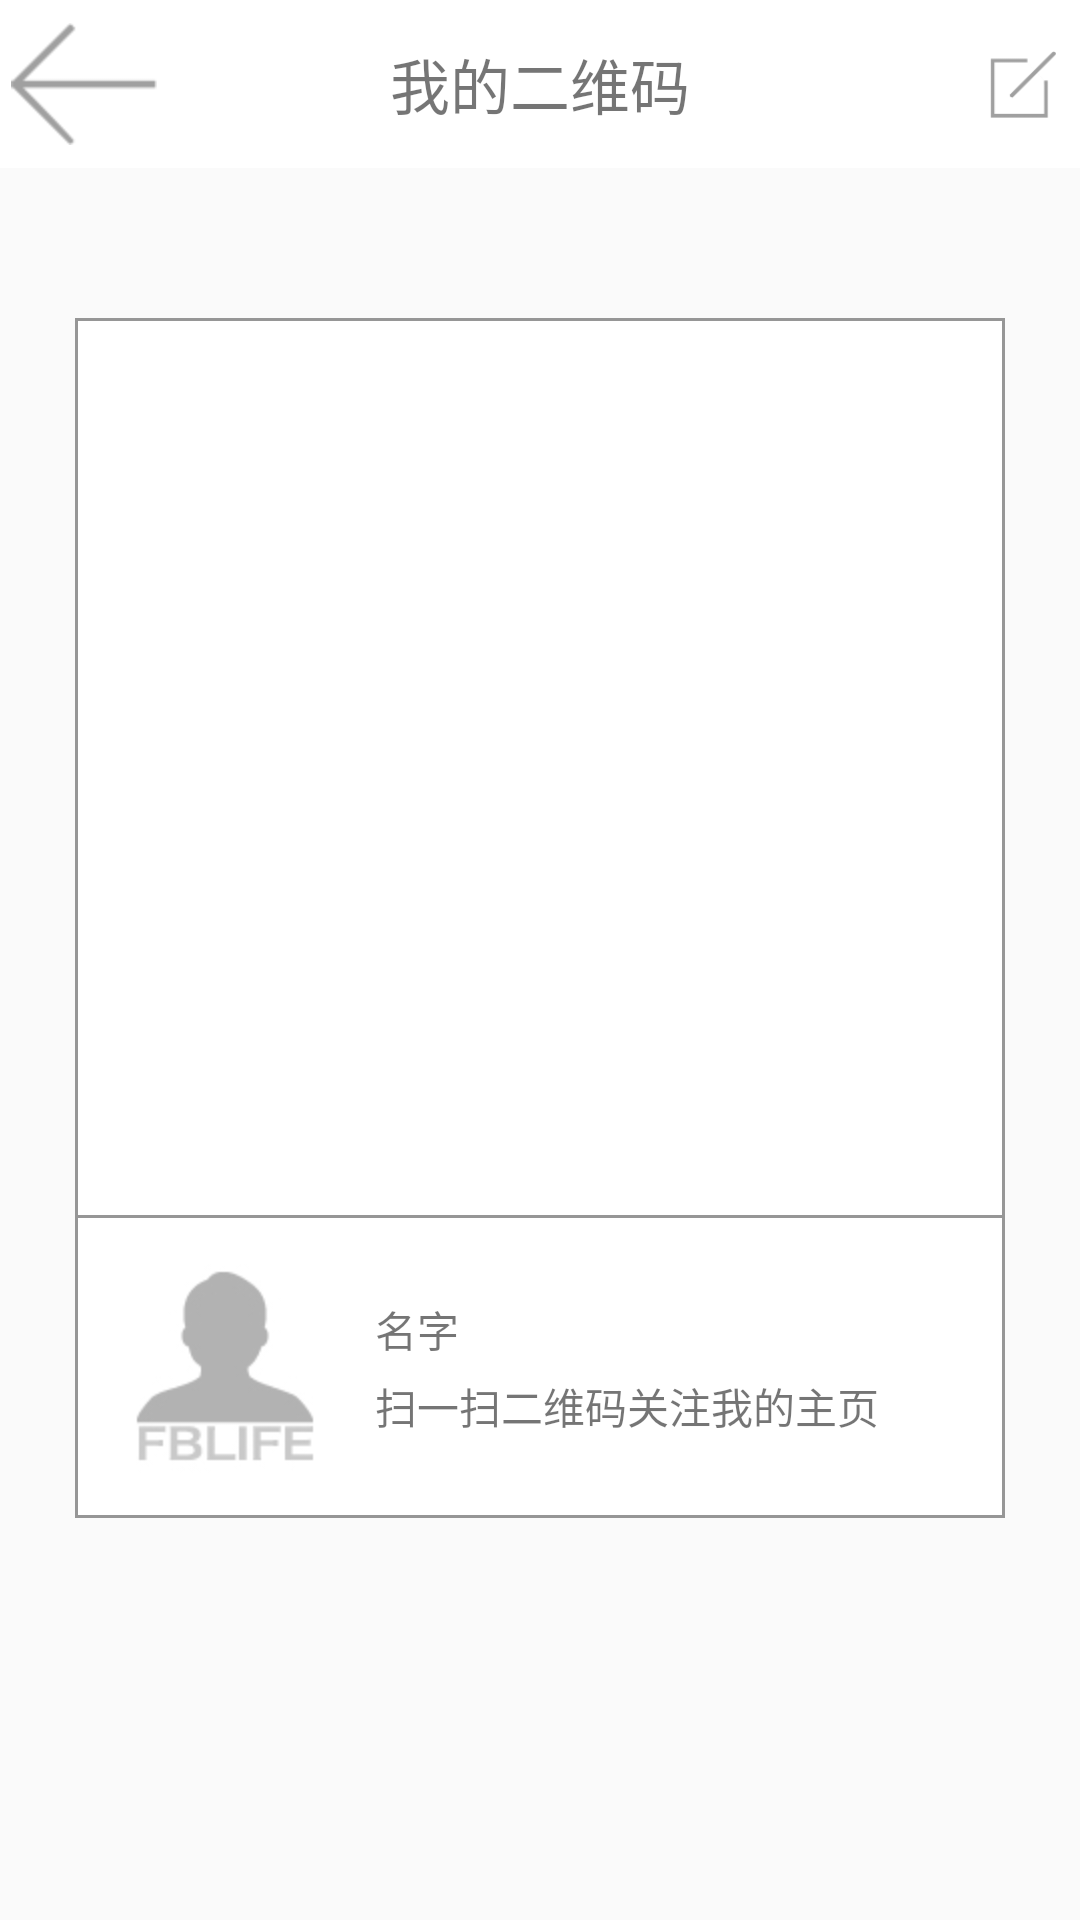

Named icons in this screenshot (1080*1920) and their centers, [x,y]:
sendto: [1023,85]
